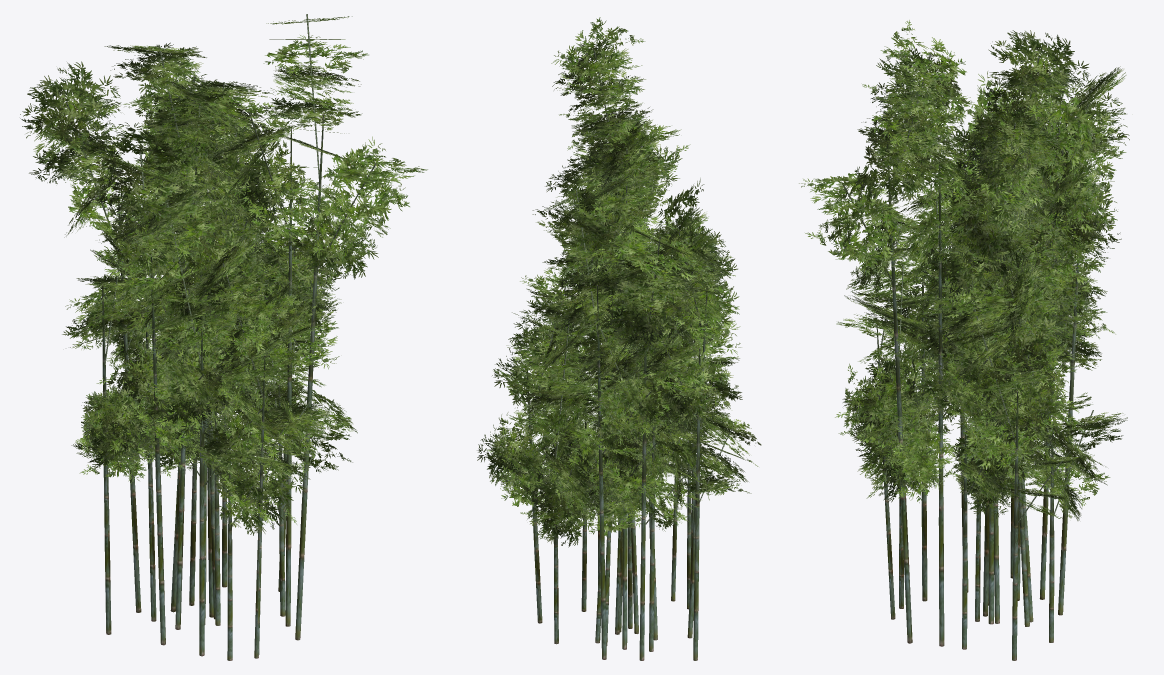
File: Bamboo_Model_0.obj
3 renders of one model, left to right at view 1: azimuth 30°, elevation 25°; view 2: azimuth 150°, elevation 25°; view 3: azimuth 270°, elevation 25°, orthographic. The views are drawn at different scales.
Parts seen in each view (by area): view 1: Foliage__leafcard, Bark; view 2: Foliage__leafcard, Bark; view 3: Foliage__leafcard, Bark.
Part boxes in pixels (x1=…): Foliage__leafcard: x1=20, y1=16, x2=427, y2=535; Bark: x1=66, y1=14, x2=376, y2=660; Foliage__leafcard: x1=477, y1=17, x2=761, y2=547; Bark: x1=513, y1=48, x2=734, y2=660; Foliage__leafcard: x1=799, y1=20, x2=1129, y2=520; Bark: x1=843, y1=53, x2=1093, y2=660.
Size of the model in its own units: 3.35 by 7 by 3.7.
2 materials, 2 textured.
